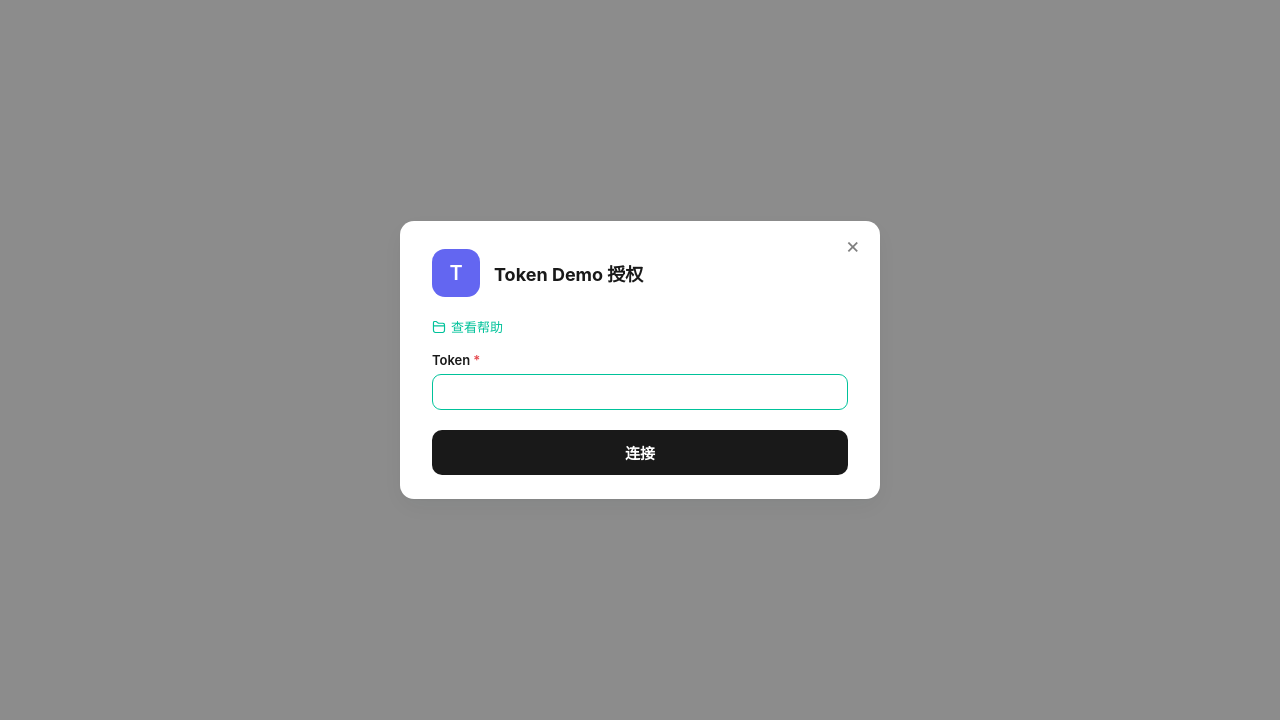
Test: 本地 Skills / MCP 完整流程 › Token 帮助链接通过受控后端打开，失败时在弹窗内提示
Click the button "查看帮助".
click(468, 326)  # box [432, 317, 503, 336]
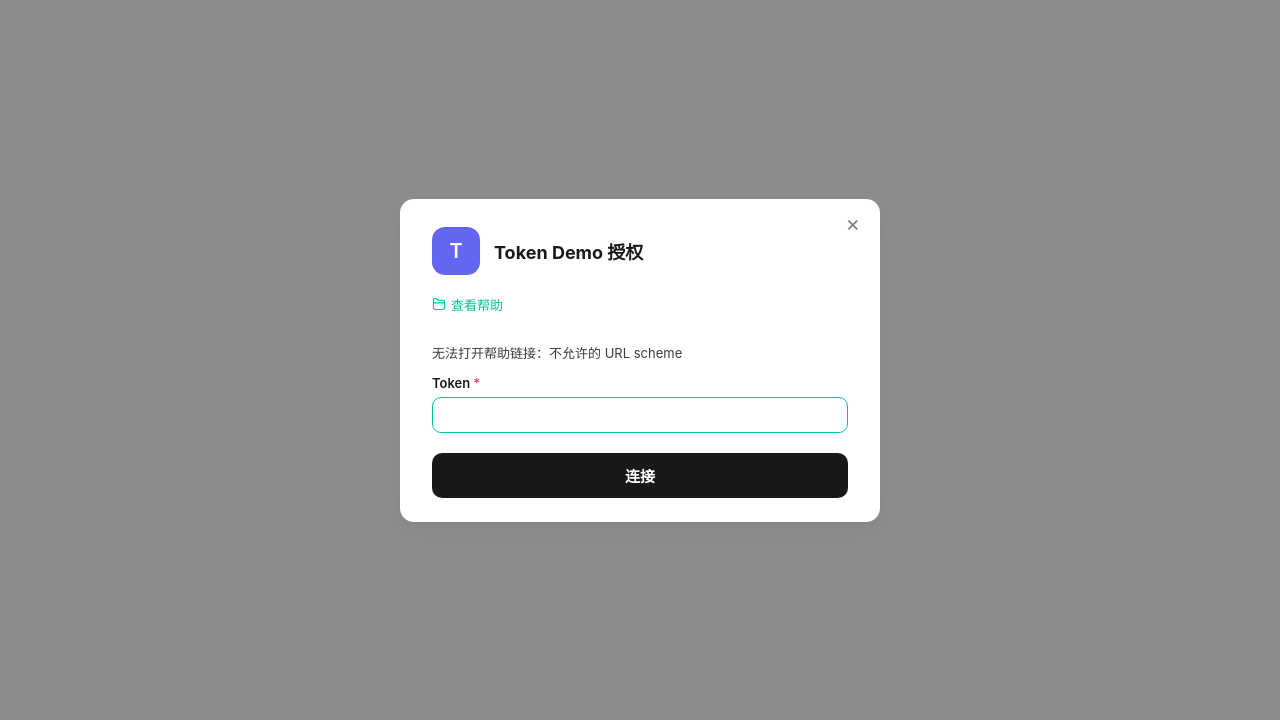
Now the message reads "无法打开帮助链接：不允许的 URL scheme", box [432, 344, 682, 360]
